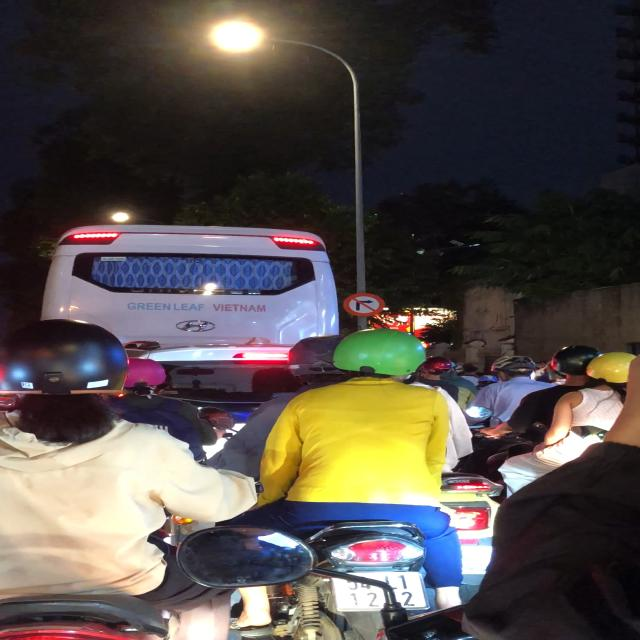Bien bao cam re phai: (340, 292, 386, 316)
